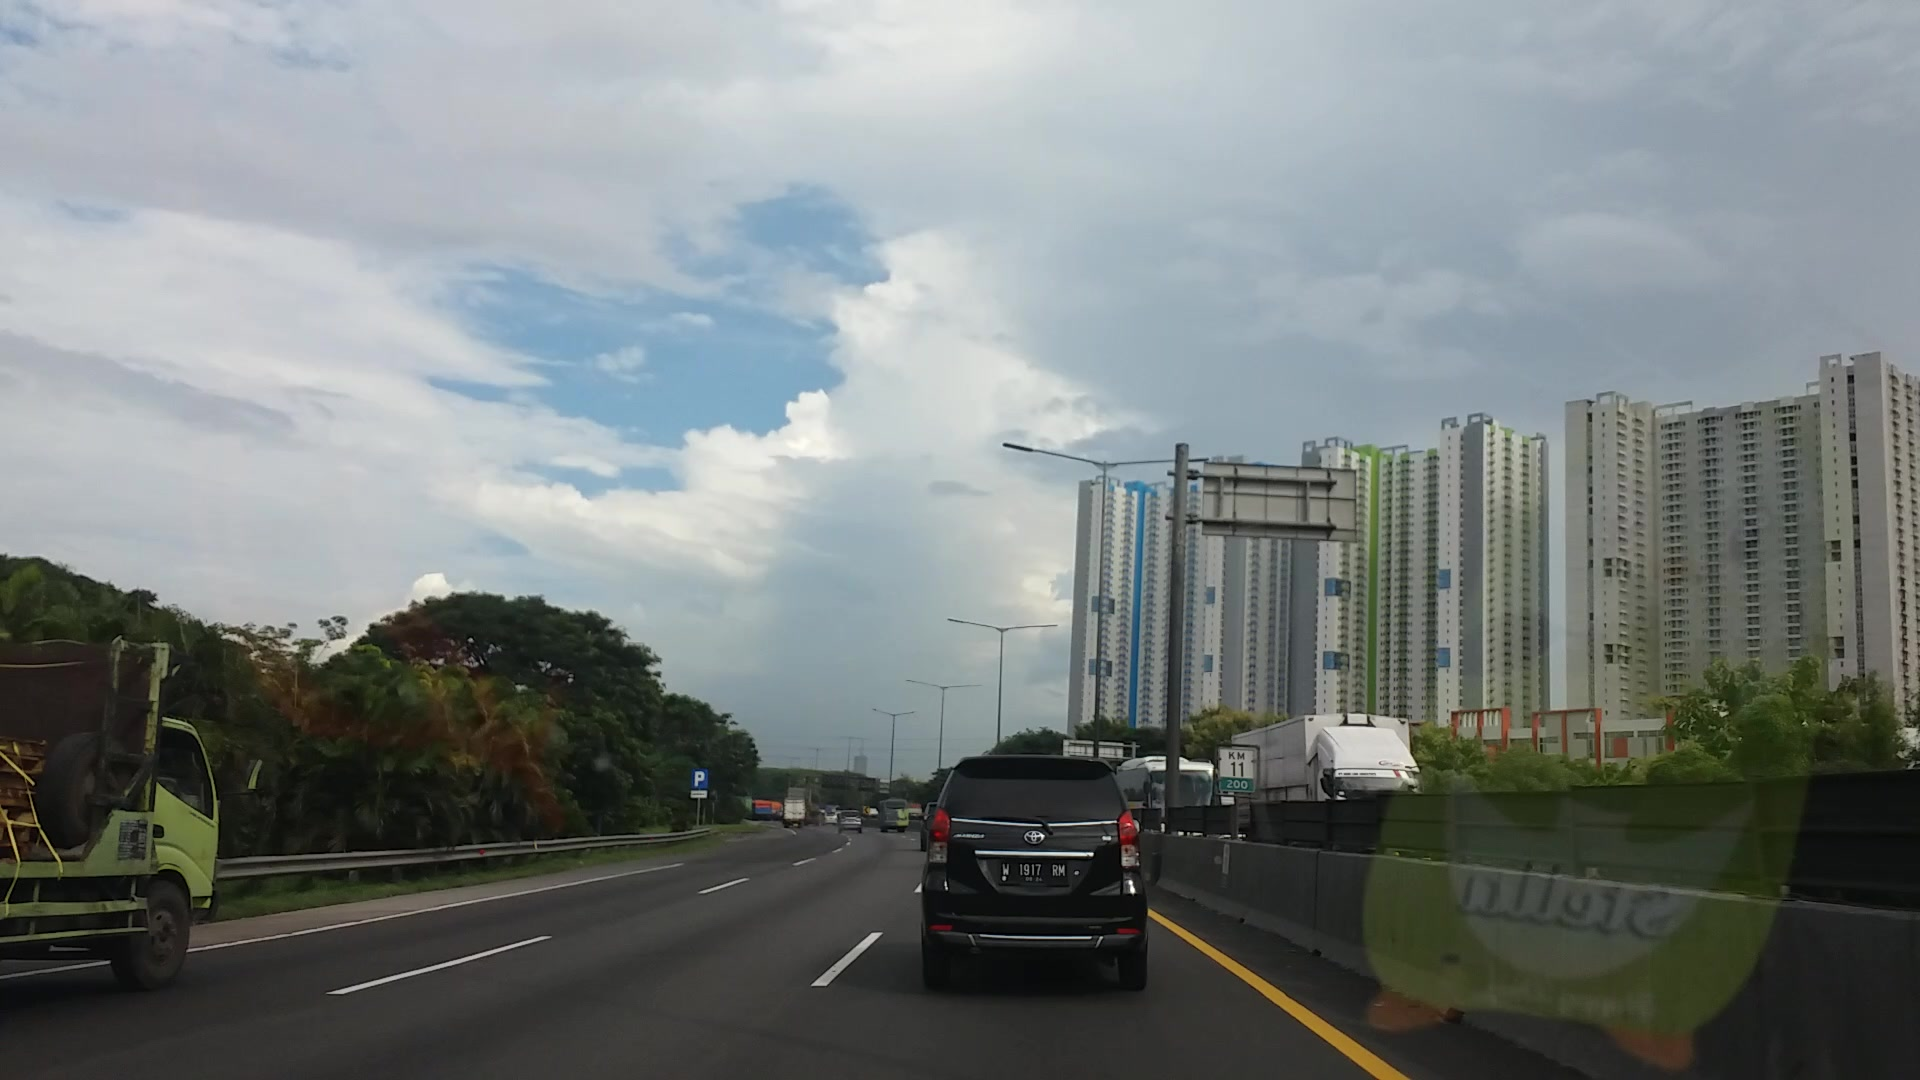plate_positive: (998, 861, 1069, 886)
